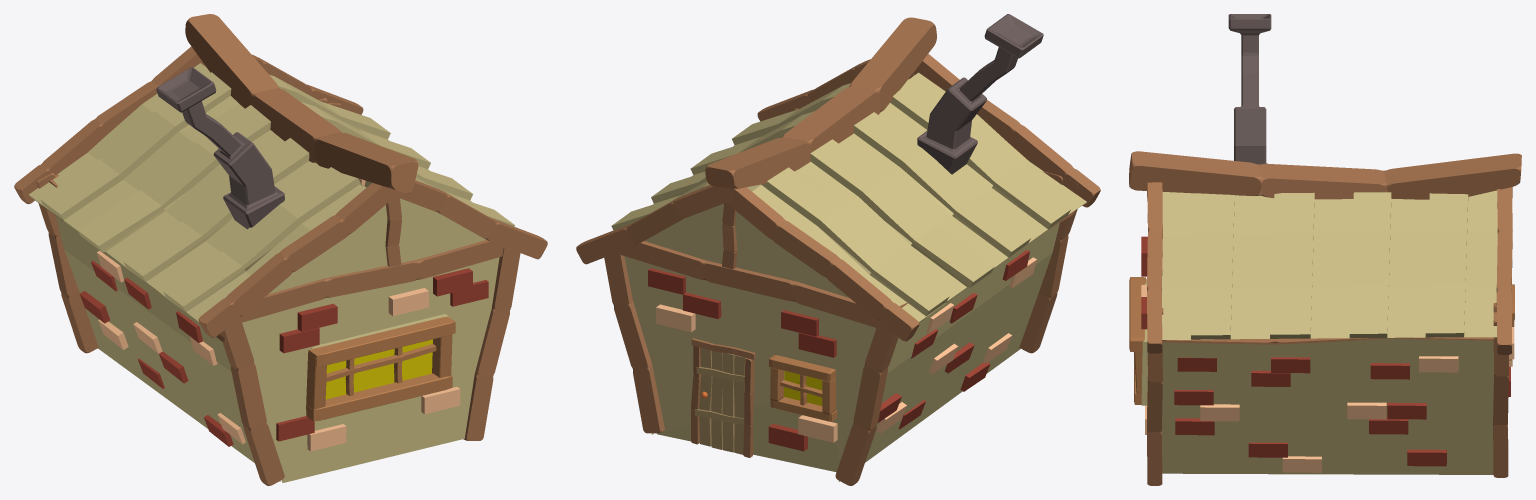
Rendered from polyhouse (1).fbx.
The picture shows the model from 3 angles, left to right: view 1: azimuth 30°, elevation 25°; view 2: azimuth 150°, elevation 25°; view 3: azimuth 270°, elevation 25°; orthographic projection. The views are drawn at different scales.
Visible parts, largest first — view 1: Plane, Plane.003, Plane.002, Cube.032, Cube.073, Cube.027, Cube.020, Cube.016, Cube.003, Cube.017, Plane.001, Cube.018 (+17 smaller); view 2: Plane, Plane.002, Cube.032, Cube.073, Cube.003, Cube.012, Cube, Cube.001, Cube.027, Plane.001, Cube.002, Cube.016 (+18 smaller); view 3: Plane.001, Plane.002, Cube.032, Cube.073, Cube.018, Cube.002, Cube.017, Cube.001, Cube.033, Cube.075, Cube.059, Cube.056 (+13 smaller).
Boxes of the visible parts, box(x1,y1,x2,y2) form: Plane: box(29, 63, 366, 321); Plane.003: box(242, 198, 499, 482); Plane.002: box(56, 181, 371, 481); Cube.032: box(185, 14, 418, 193); Cube.073: box(156, 67, 284, 229); Cube.027: box(198, 183, 400, 337); Cube.020: box(240, 240, 503, 322); Cube.016: box(220, 317, 284, 485); Cube.003: box(14, 46, 204, 204); Cube.017: box(463, 247, 520, 440); Plane.001: box(269, 74, 514, 226); Cube.018: box(396, 180, 547, 259); Plane: box(624, 72, 1086, 472); Plane.002: box(651, 184, 1059, 481); Cube.032: box(705, 17, 936, 188); Cube.073: box(917, 14, 1043, 174); Cube.003: box(726, 187, 919, 341); Cube.012: box(620, 241, 878, 327); Cube: box(835, 321, 898, 485); Cube.001: box(604, 251, 664, 433); Cube.027: box(913, 53, 1100, 207); Plane.001: box(611, 83, 850, 230); Cube.002: box(576, 185, 732, 264); Cube.016: box(1019, 178, 1078, 353); Plane.001: box(1162, 190, 1497, 339); Plane.002: box(1162, 338, 1493, 474); Cube.032: box(1129, 151, 1521, 199); Cube.073: box(1228, 14, 1271, 164); Cube.018: box(1147, 182, 1162, 353); Cube.002: box(1496, 187, 1512, 354); Cube.017: box(1147, 342, 1162, 485); Cube.001: box(1493, 312, 1508, 477); Cube.033: box(1162, 337, 1495, 344); Cube.075: box(1129, 277, 1144, 351); Cube.059: box(1347, 402, 1386, 419); Cube.056: box(1407, 449, 1446, 466).
Size of the model in its own units: 532 by 564 by 555.
